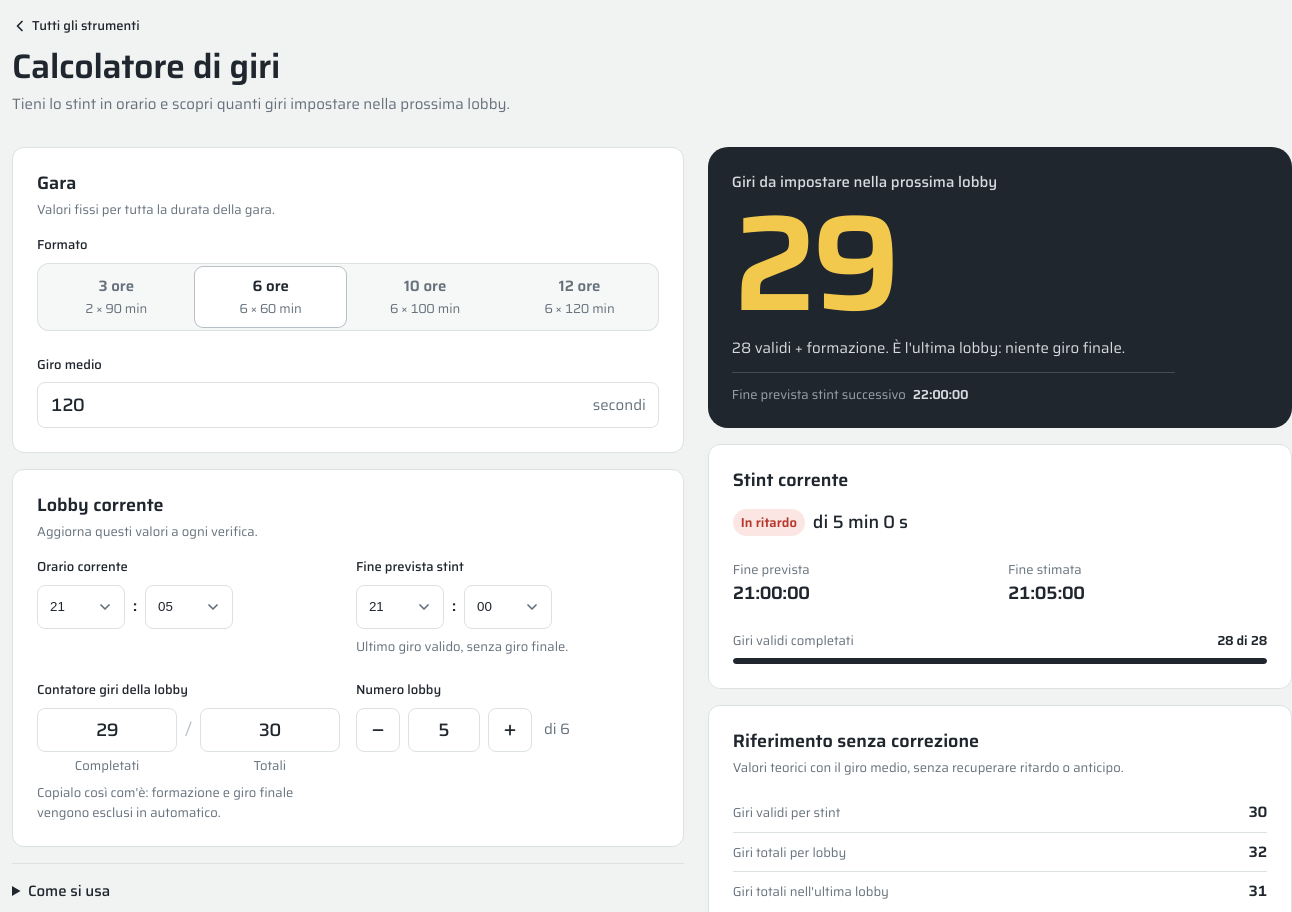
Scenario: <LapCalculator /> › cambia lobby con i pulsanti dello stepper
The width and height of the screenshot is (1292, 912).
Click the button named "Lobby successiva".
click(510, 730)  # box [488, 708, 532, 752]
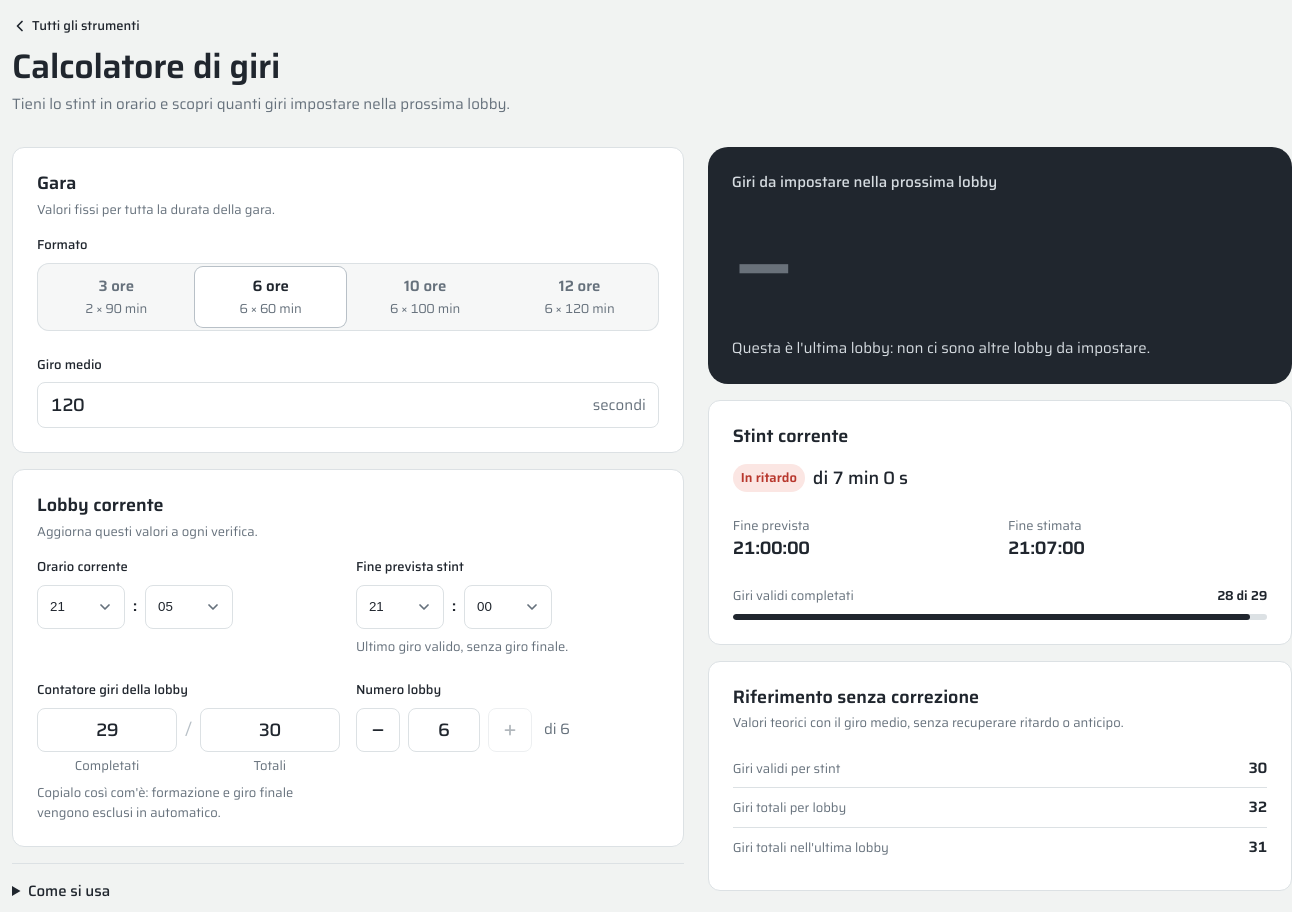
Expected: the number field labelled "Numero lobby" holds "6", [408, 708, 480, 752]
Expected: the button named "Lobby successiva" is disabled, [488, 708, 532, 752]
